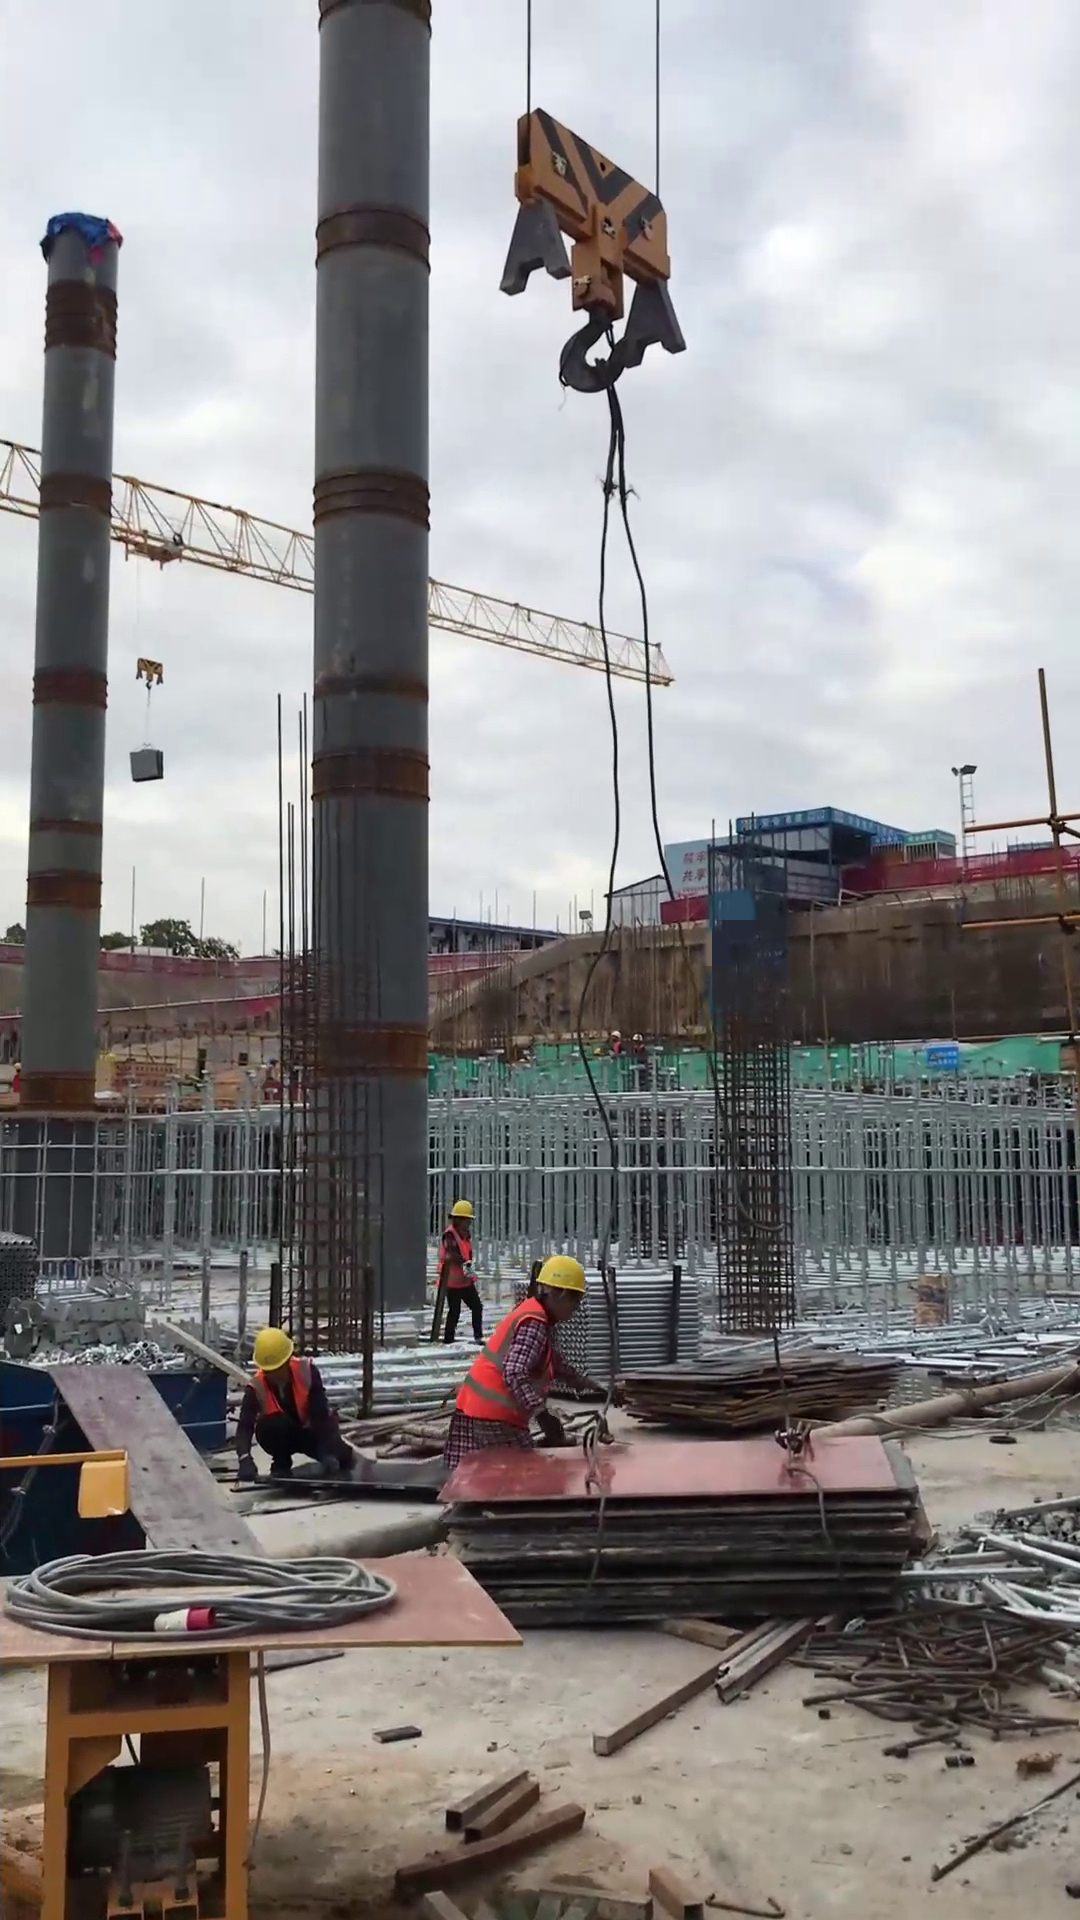board: (418, 1425, 947, 1651), (614, 1334, 914, 1451)
cutter: (1, 1534, 480, 1920)
fence: (892, 837, 1073, 898)
helmet: (242, 1324, 305, 1379), (528, 1255, 595, 1305), (445, 1194, 482, 1234)
hook: (485, 106, 704, 401), (130, 651, 168, 694)
person: (444, 1252, 612, 1519), (231, 1326, 362, 1495), (428, 1187, 494, 1344)
scaffold: (566, 1251, 714, 1387)
vest: (449, 1295, 571, 1450), (247, 1360, 320, 1440), (432, 1227, 482, 1300)
